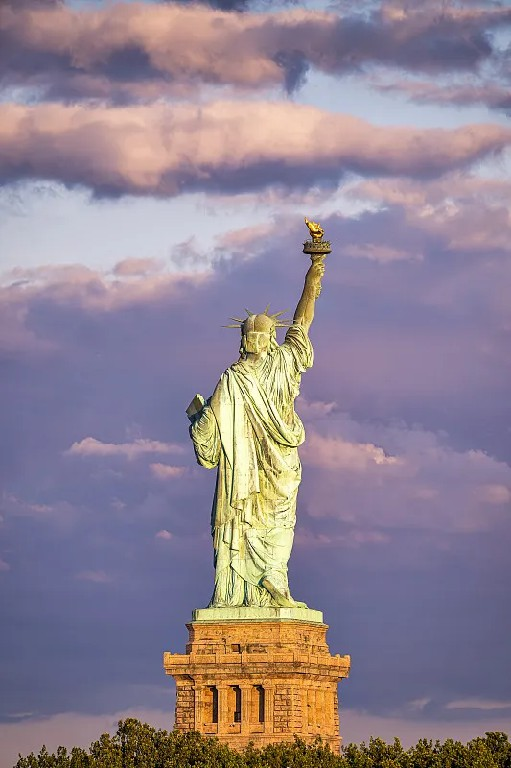SL: (164, 218, 351, 757)
